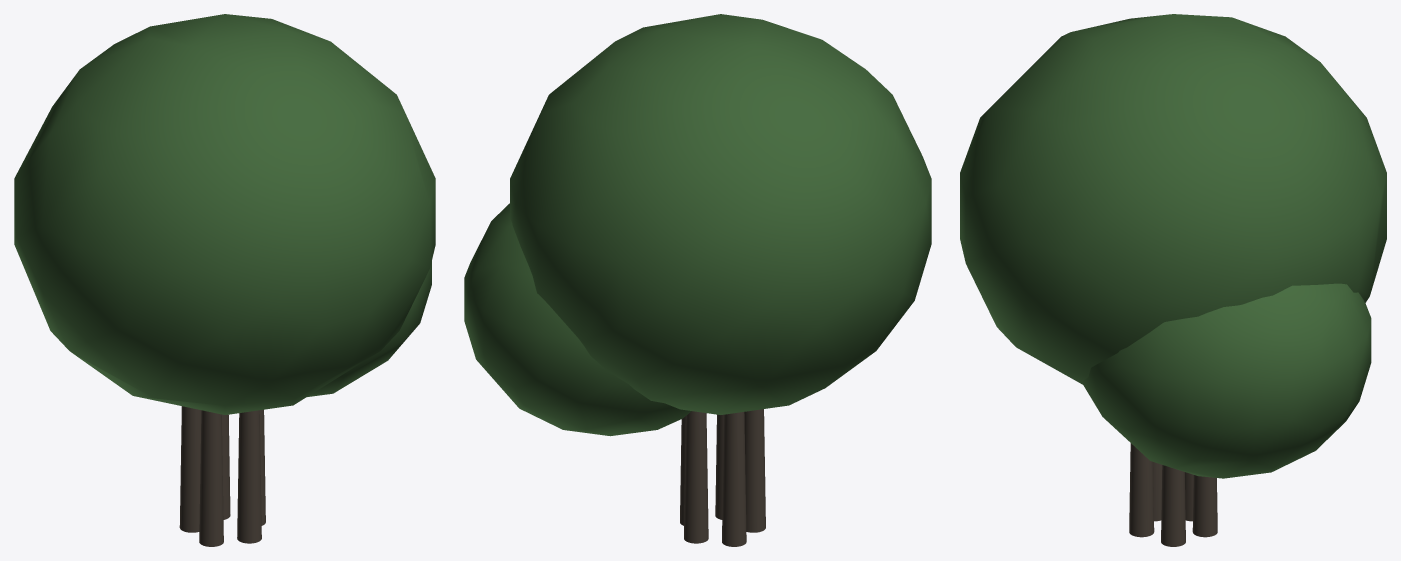
Rendered from e09-alder-scrub.lod1.glb.
The picture shows the model from 3 angles, left to right: view 1: azimuth 30°, elevation 25°; view 2: azimuth 150°, elevation 25°; view 3: azimuth 270°, elevation 25°; orthographic projection.
Parts seen in each view (by area): view 1: part5, part3, part4, part2, part6, part1, part0; view 2: part5, part6, part2, part1, part3, part4; view 3: part5, part6, part4, part0, part1, part3.
Boxes of the visible parts, box(x1,y1,x2,y2) form: part5: box(14, 14, 435, 414); part3: box(199, 410, 223, 546); part4: box(237, 410, 261, 543); part2: box(179, 406, 201, 532); part6: box(307, 261, 431, 396); part1: box(221, 414, 230, 519); part0: box(259, 409, 265, 525); part5: box(510, 14, 931, 414); part6: box(464, 203, 691, 436); part2: box(722, 412, 746, 546); part1: box(684, 411, 708, 543); part3: box(744, 409, 765, 532); part4: box(715, 414, 723, 519); part5: box(960, 14, 1386, 384); part6: box(1082, 283, 1371, 478); part4: box(1129, 443, 1154, 537); part0: box(1161, 465, 1185, 546); part1: box(1192, 475, 1217, 537); part3: box(1153, 462, 1162, 521).
Bounding box in the file's own units: 5525 × 6560 × 5109.
